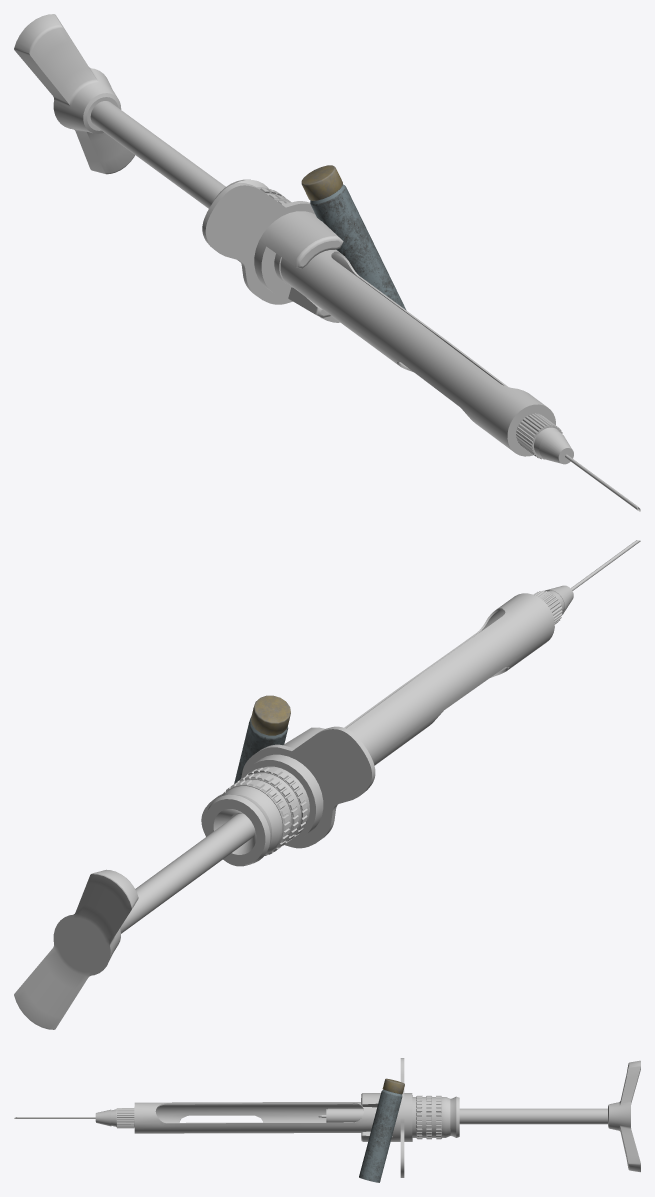
Rendered from MedicalSyringe.fbx.
The picture shows the model from 3 angles, top to bottom: view 1: azimuth 30°, elevation 25°; view 2: azimuth 150°, elevation 25°; view 3: azimuth 270°, elevation 25°; orthographic projection. The views are drawn at different scales.
Visible parts, largest first — view 1: Cylinder, Cylinder.001, NurbsCurve, Cylinder.005, Cylinder.002; view 2: Cylinder, Cylinder.001, NurbsCurve, Cylinder.005; view 3: Cylinder, Cylinder.001, Cylinder.005, NurbsCurve, Cylinder.002.
Boxes of the visible parts, x1,y1,x2,y2 form: Cylinder: (214, 179, 562, 459); Cylinder.001: (14, 14, 225, 208); NurbsCurve: (202, 183, 339, 322); Cylinder.005: (301, 165, 406, 310); Cylinder.002: (539, 431, 640, 511); Cylinder: (204, 590, 564, 864); Cylinder.001: (14, 813, 254, 1029); NurbsCurve: (201, 726, 375, 866); Cylinder.005: (234, 695, 290, 783); Cylinder: (111, 1093, 459, 1141); Cylinder.001: (317, 1060, 640, 1172); Cylinder.005: (359, 1078, 404, 1182); NurbsCurve: (400, 1058, 404, 1177); Cylinder.002: (14, 1109, 111, 1126).
Bounding box in the file's own units: 146 × 133 × 808.
